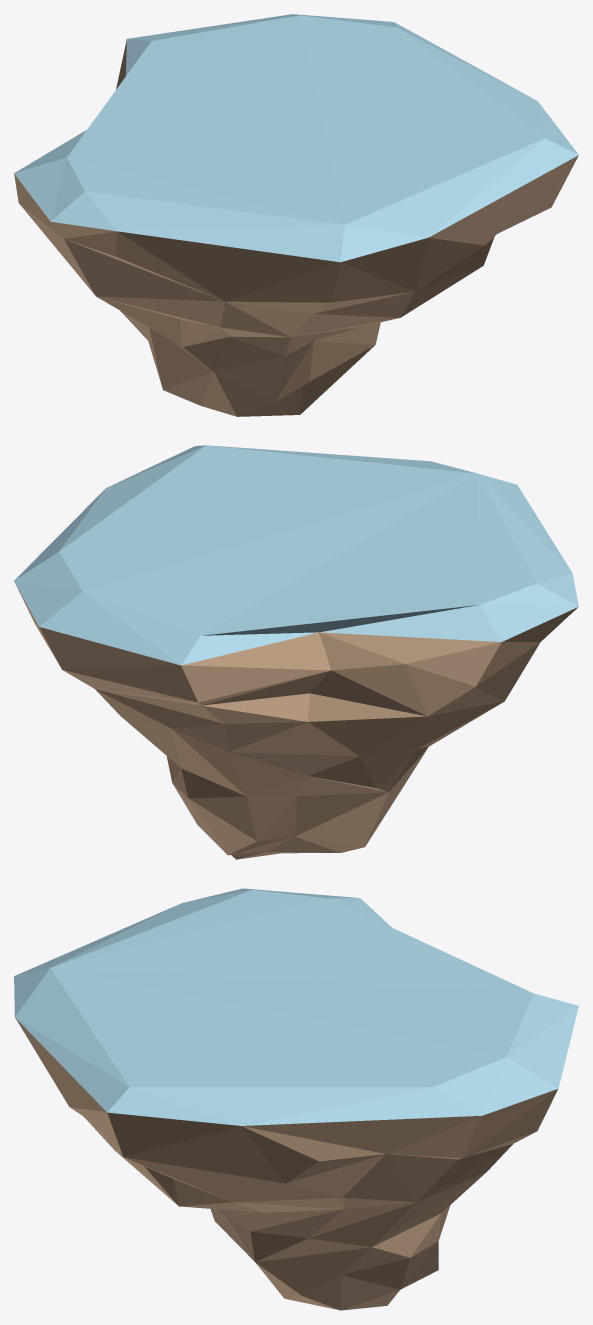
File: island1_Blue.fbx
The picture shows the model from 3 angles, top to bottom: view 1: azimuth 30°, elevation 25°; view 2: azimuth 150°, elevation 25°; view 3: azimuth 270°, elevation 25°; orthographic projection. The views are drawn at different scales.
Visible parts, largest first — view 1: island1; view 2: island1; view 3: island1.
Boxes of the visible parts, <box> form: island1: <box>14,14,578,416</box>; island1: <box>14,445,578,859</box>; island1: <box>14,888,578,1310</box>.
Bounding box in the file's own units: 34.87 × 20.63 × 34.69.
